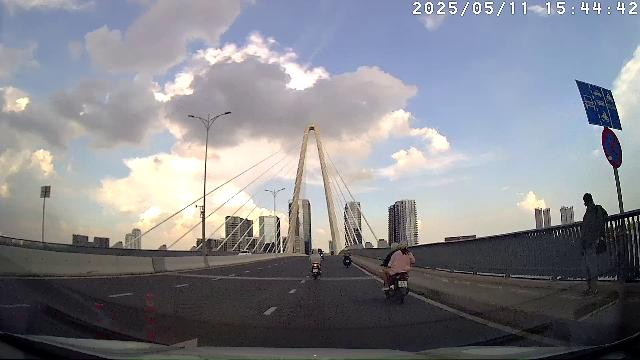130-cam-dung-va-do-xe: (601, 128, 623, 169)
